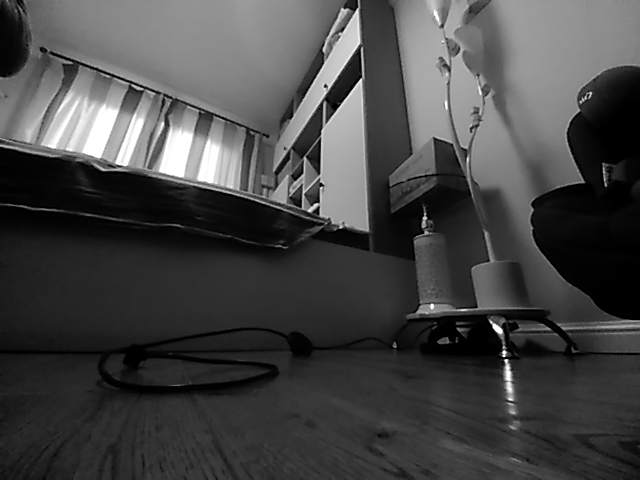wire: (97, 320, 432, 396)
